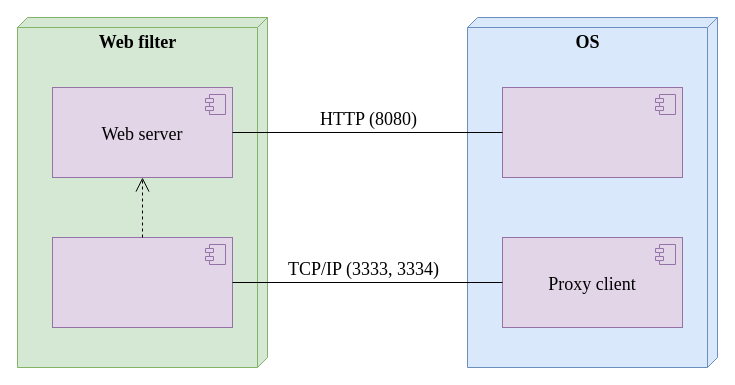
Image size: 735x385. Some labels were removed from this diagram. The shapes that lost their labels are listed below. From the top down, each one's centre as x and y in pixels, then its label:
[592,132]: Web console
[142,282]: Proxy server
